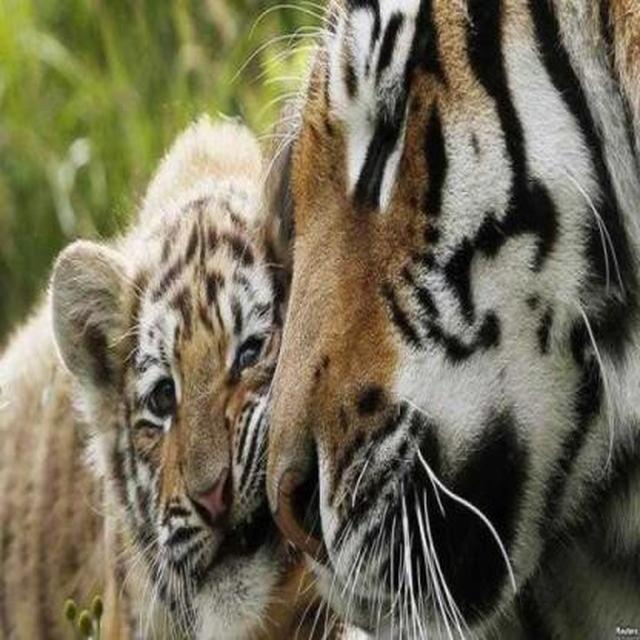tiger: (247, 0, 639, 639), (0, 109, 352, 639)
